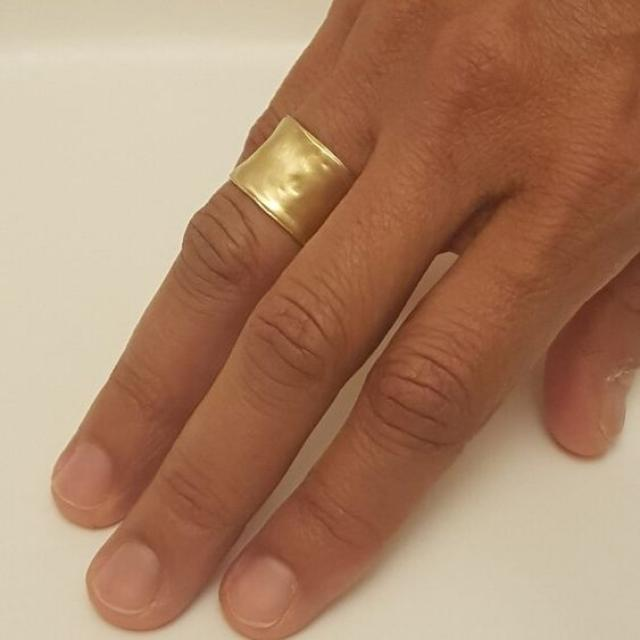Fingernail: (227, 556, 298, 629), (94, 541, 163, 614), (53, 444, 114, 510), (601, 380, 627, 446)
